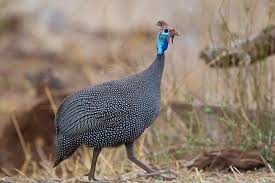Walking: (45, 5, 233, 183)
